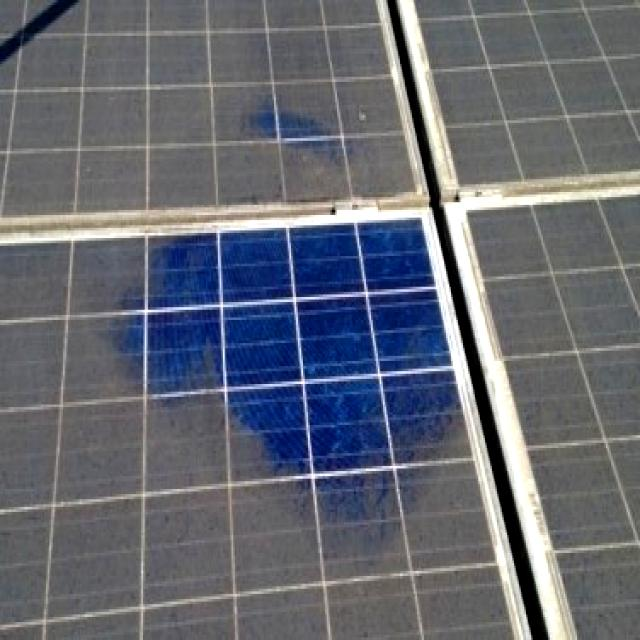dust: (0, 238, 174, 500), (168, 342, 278, 552), (9, 521, 200, 640), (0, 5, 186, 124), (296, 425, 398, 640), (203, 3, 400, 112), (533, 440, 640, 640), (495, 280, 635, 426), (4, 130, 218, 225), (424, 64, 640, 158), (418, 431, 508, 640), (238, 128, 427, 214), (466, 194, 640, 256), (420, 3, 640, 47)
